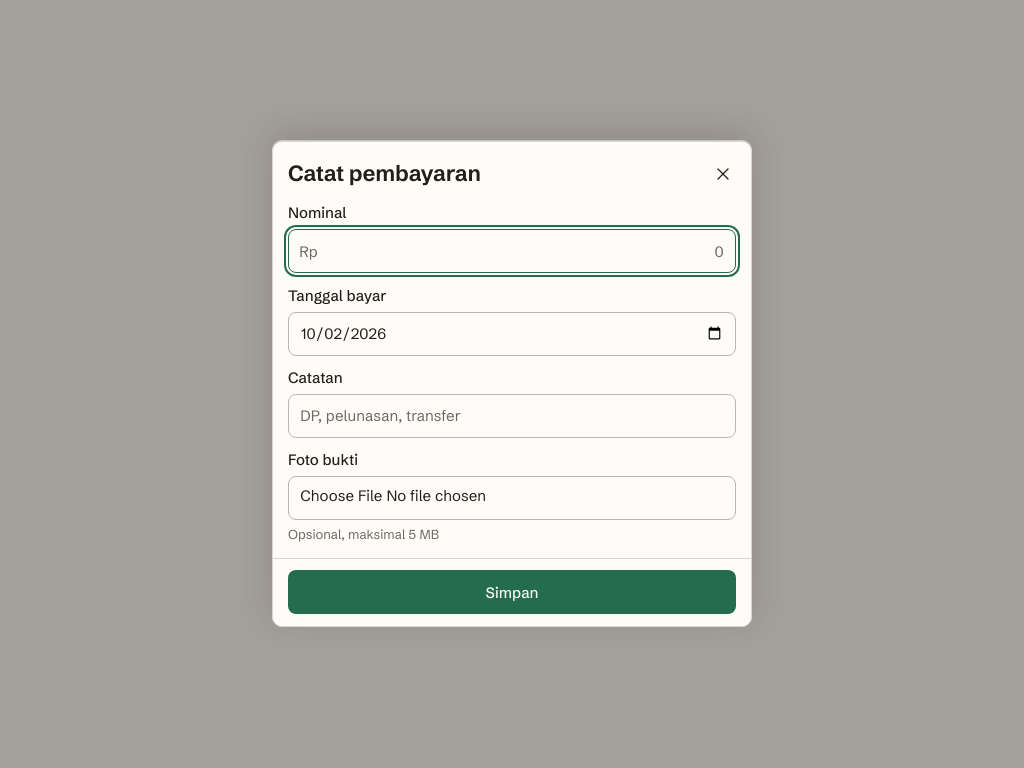
it: amount must be greater than 0
Click the button "Simpan": [512, 592] box [288,570,736,614]
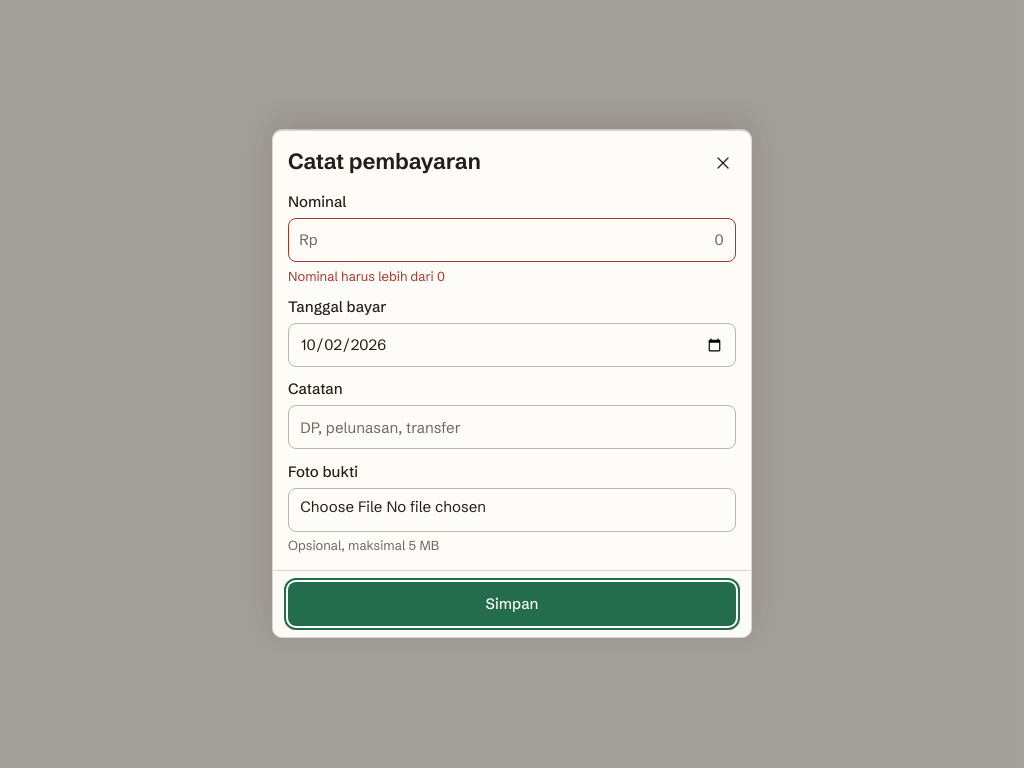
Expected: the text "Nominal harus lebih dari 0" is shown, [288,268,445,284]
